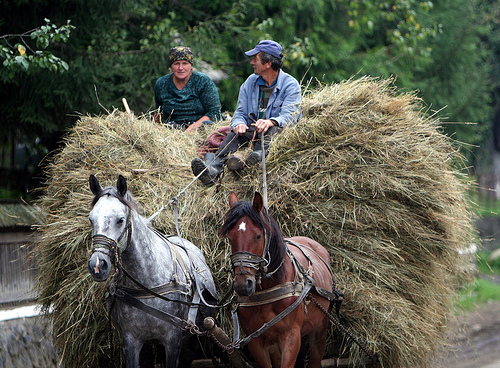horse: (87, 175, 220, 368), (217, 190, 340, 368)
